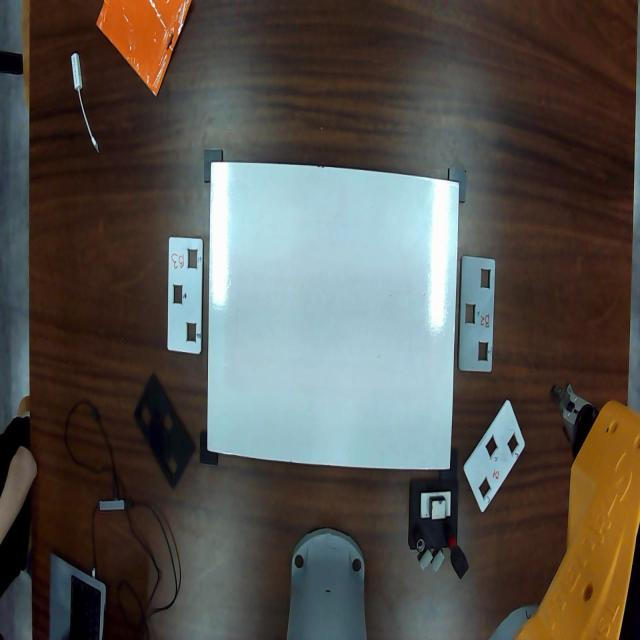default_frame: (207, 162, 459, 472)
